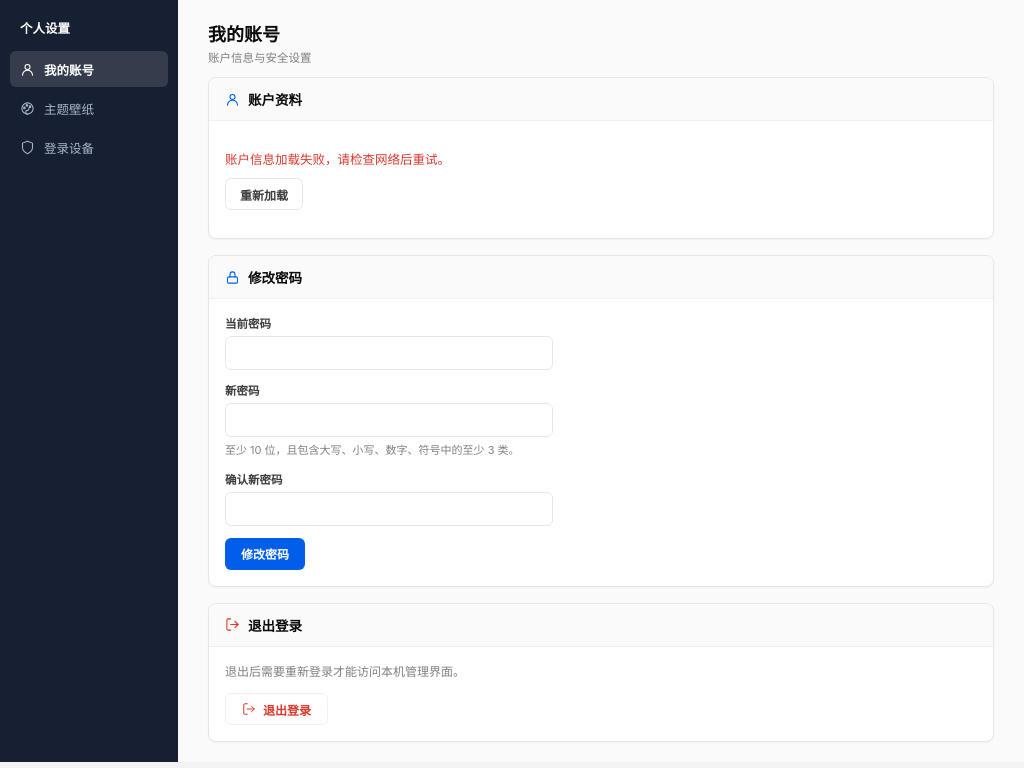
Test: Account devices tab › revokes a non-current session after confirmation and refreshes the list
Click the button "登录设备": (89, 147) top-left (10, 129), bottom-right (168, 165)
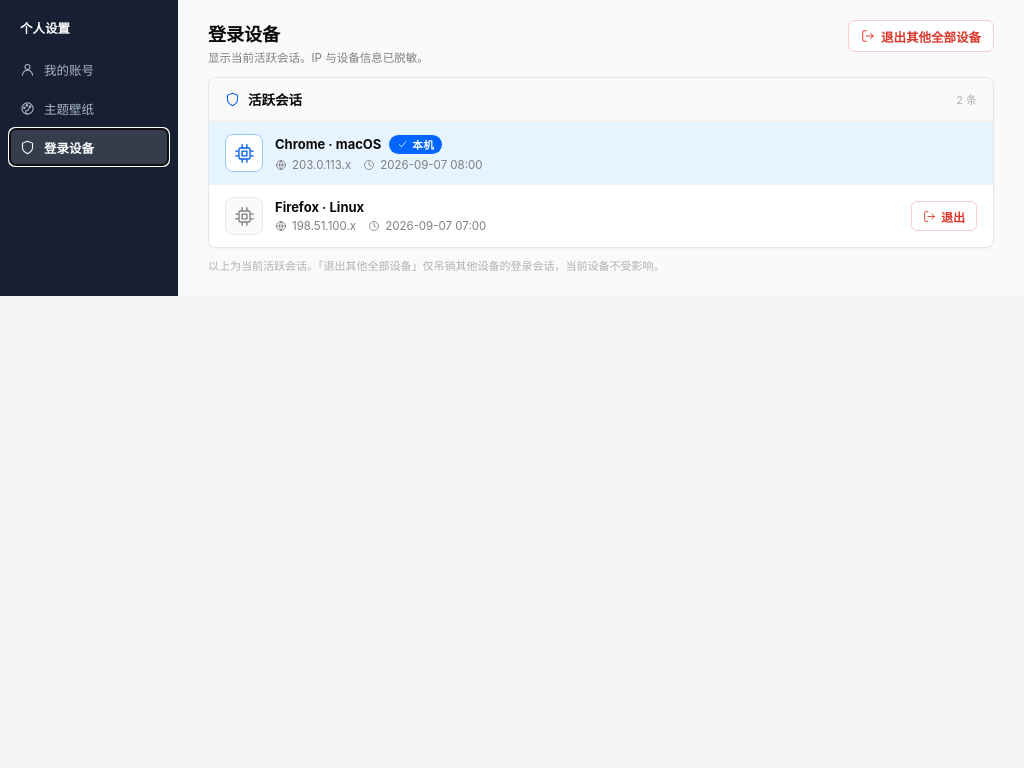
Check: the text "Chrome · macOS" is shown, box top-left (275, 136), bottom-right (381, 152)
Check: the text "Firefox · Linux" is shown, box top-left (275, 199), bottom-right (364, 215)
Click the button with aria-label "退出 Firefox · Linux": (944, 216) top-left (911, 201), bottom-right (977, 231)
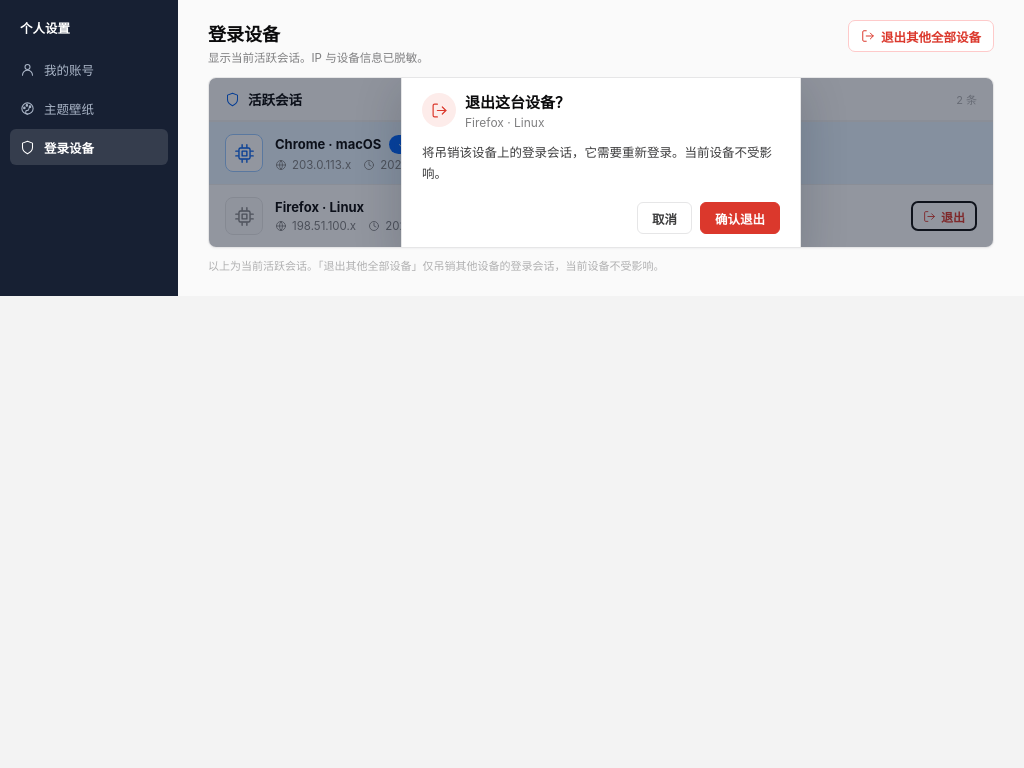
Check: the dialog named "确认退出指定设备" is shown, box top-left (209, 78), bottom-right (993, 247)
Click the button "确认退出": (740, 218) top-left (700, 202), bottom-right (780, 234)
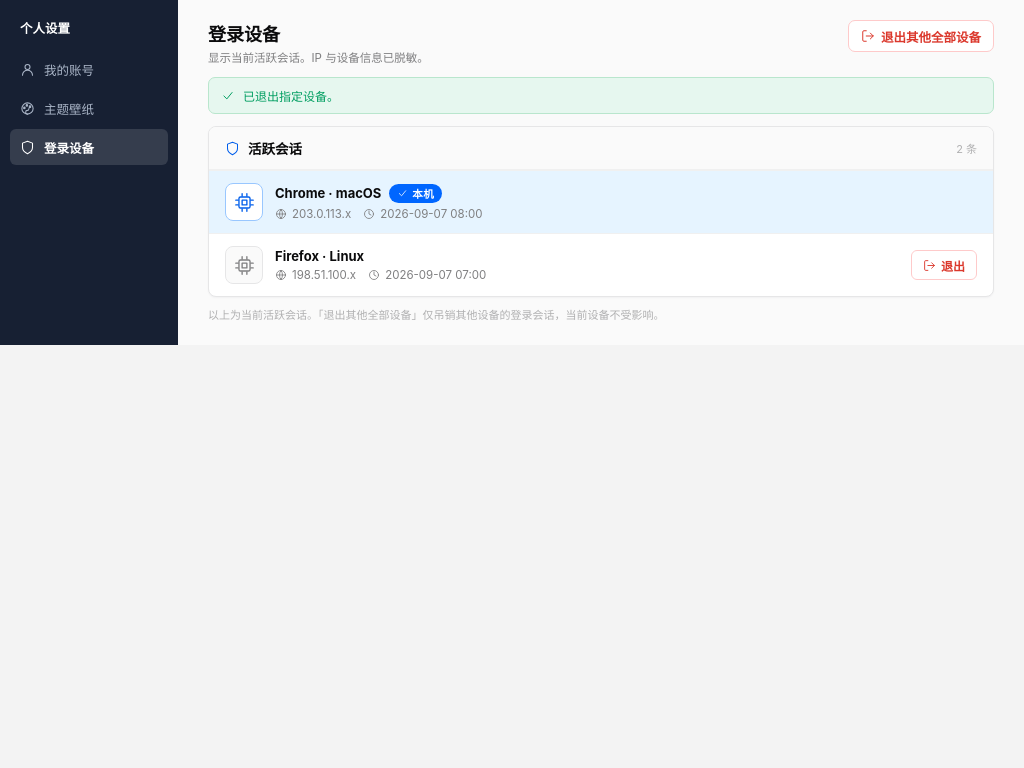
Check: the text "已退出指定设备。" is shown, box top-left (208, 77), bottom-right (994, 114)
